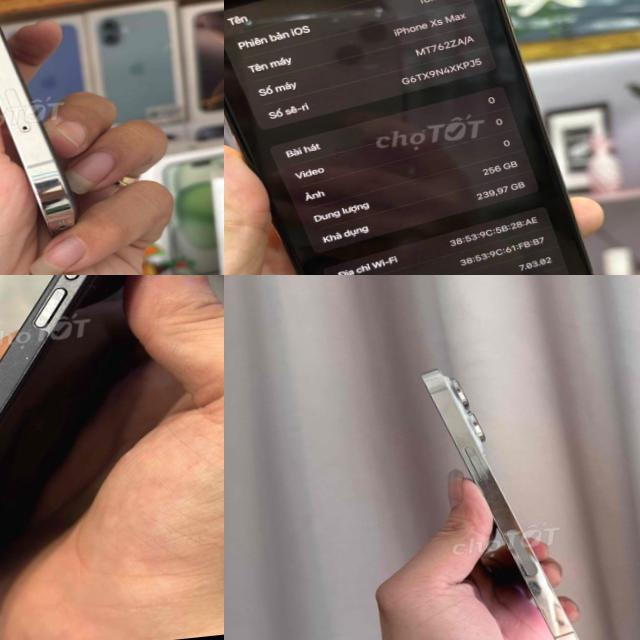gen_12_13: (0, 275, 224, 640), (0, 0, 74, 245)
gen_14: (418, 351, 605, 640)
gen_x_xs: (224, 0, 593, 275)
